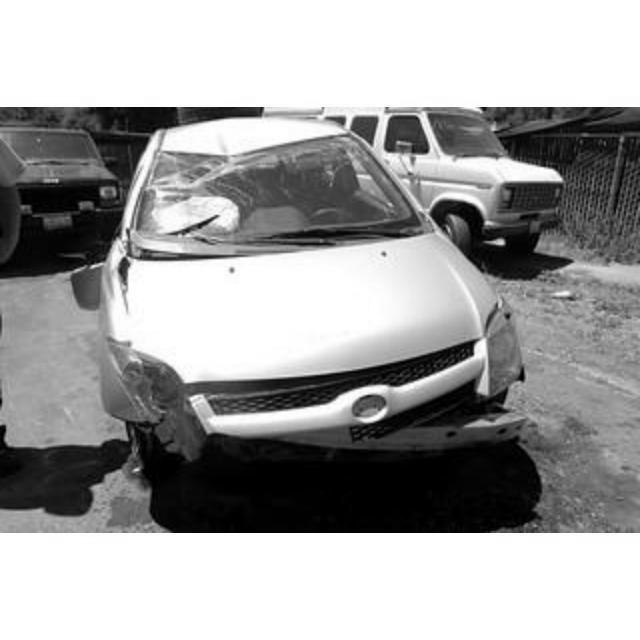Front-windscreen-damage: (152, 131, 322, 241)
front-bumper-dent: (108, 373, 448, 455)
